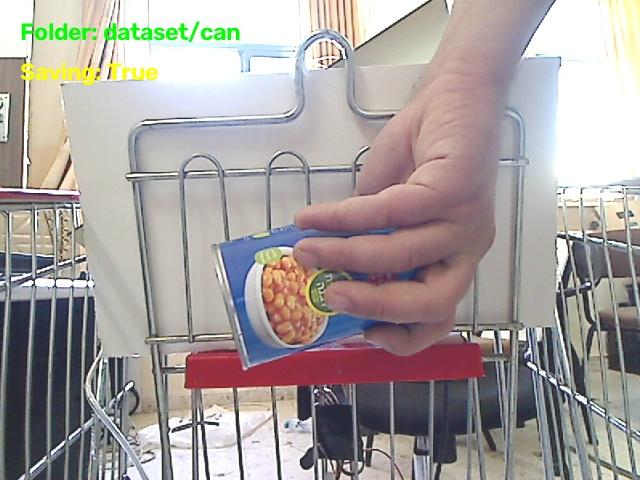can: (214, 226, 416, 367)
